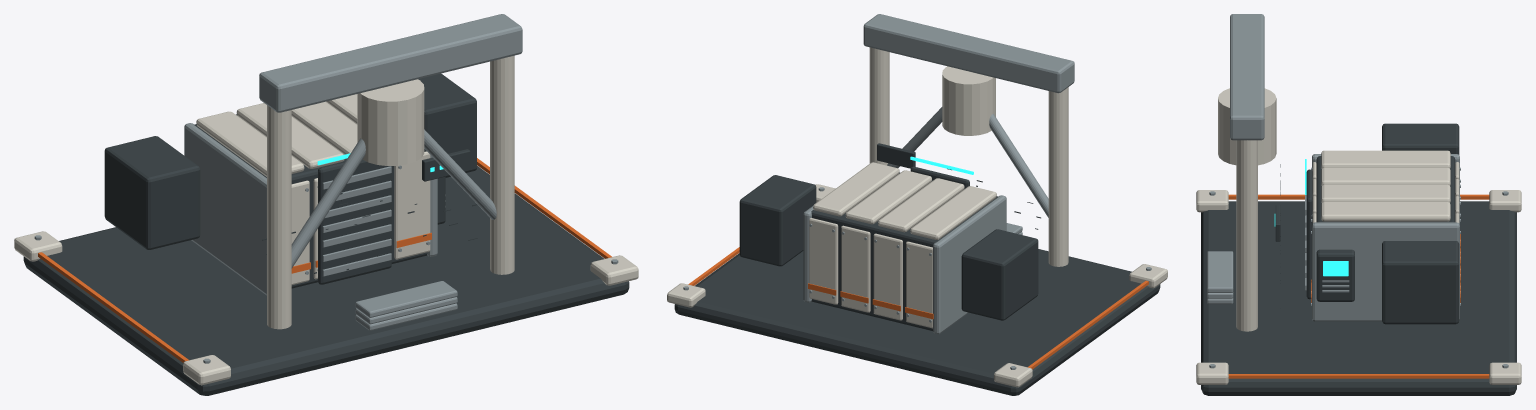
The model's file is SM_AlienMaterialHarvester_Body.fbx.
The picture shows the model from 3 angles, left to right: view 1: azimuth 30°, elevation 25°; view 2: azimuth 150°, elevation 25°; view 3: azimuth 270°, elevation 25°; orthographic projection. The views are drawn at different scales.
Parts seen in each view (by area): view 1: SM_AlienMaterialHarvester_Body; view 2: SM_AlienMaterialHarvester_Body; view 3: SM_AlienMaterialHarvester_Body.
Boxes of the visible parts, x1,y1,x2,y2 form: SM_AlienMaterialHarvester_Body: [14, 14, 638, 395]; SM_AlienMaterialHarvester_Body: [667, 14, 1167, 395]; SM_AlienMaterialHarvester_Body: [1196, 14, 1521, 395].
Size of the model in its own units: 572 by 422 by 347.
